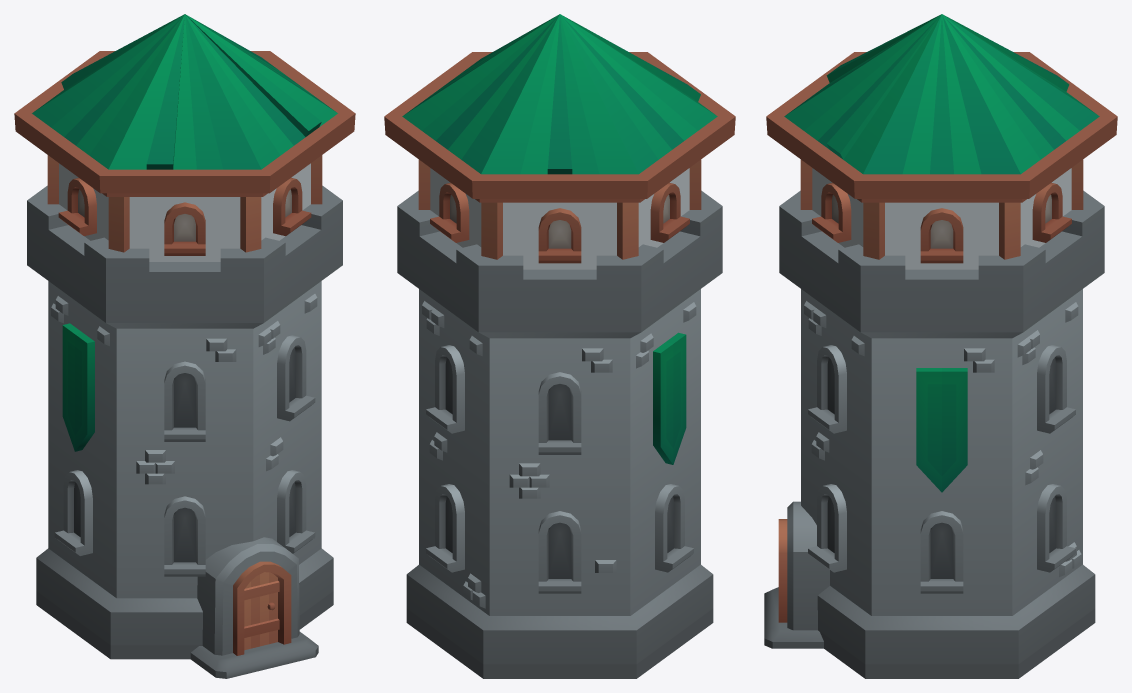
Rendered from tower_a_green.glb.
3 renders of one model, left to right at view 1: azimuth 30°, elevation 25°; view 2: azimuth 150°, elevation 25°; view 3: azimuth 270°, elevation 25°, orthographic. The views are drawn at different scales.
Visible parts, largest first — view 1: tower_a_green; view 2: tower_a_green; view 3: tower_a_green.
Boxes of the visible parts, x1=… form: tower_a_green: x1=14, y1=14, x2=355, y2=678; tower_a_green: x1=384, y1=14, x2=735, y2=678; tower_a_green: x1=764, y1=14, x2=1117, y2=678.
Size of the model in its own units: 0.4966 by 1.1 by 0.5767.
Materials: 1 (1 with a texture image).
